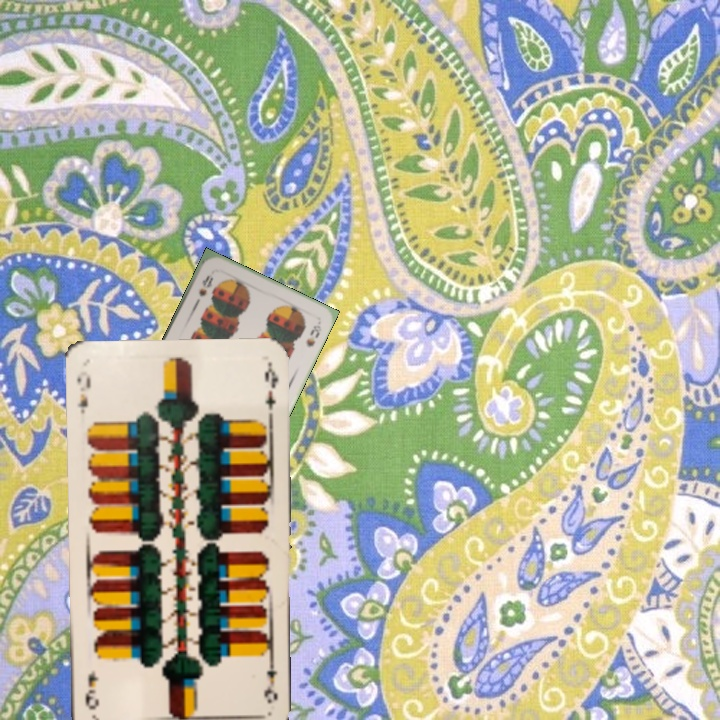E9: (261, 650, 280, 706), (73, 372, 93, 416)
S8: (194, 271, 216, 299)
